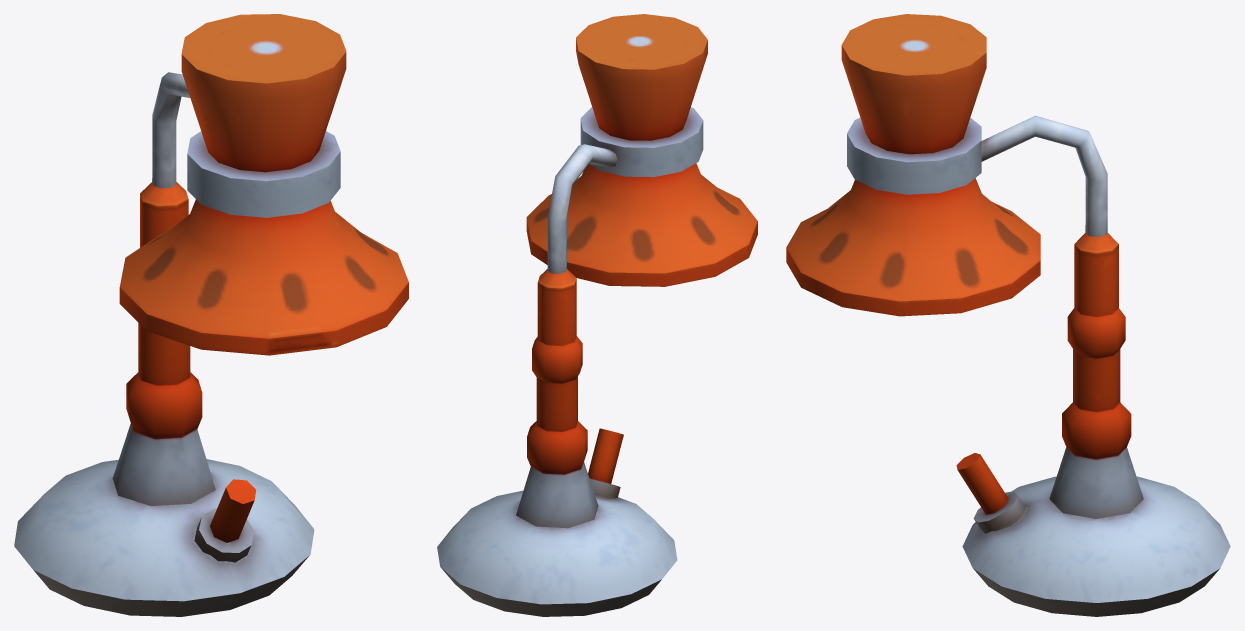
Rendered from LampTable01.FBX.
The picture shows the model from 3 angles, left to right: view 1: azimuth 30°, elevation 25°; view 2: azimuth 150°, elevation 25°; view 3: azimuth 270°, elevation 25°; orthographic projection. The views are drawn at different scales.
Parts seen in each view (by area): view 1: LampTable01; view 2: LampTable01; view 3: LampTable01.
Part boxes in pixels (bbox=[...]): LampTable01: bbox=[14, 14, 408, 616]; LampTable01: bbox=[437, 14, 757, 616]; LampTable01: bbox=[786, 14, 1230, 616].
Size of what is drawn, in the model's own units: 0.2099 by 0.4501 by 0.3478.
